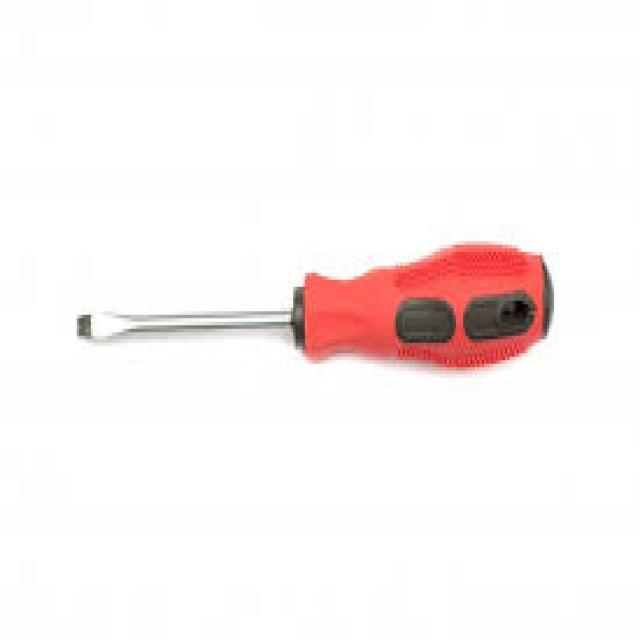screw driver: (57, 227, 593, 406)
